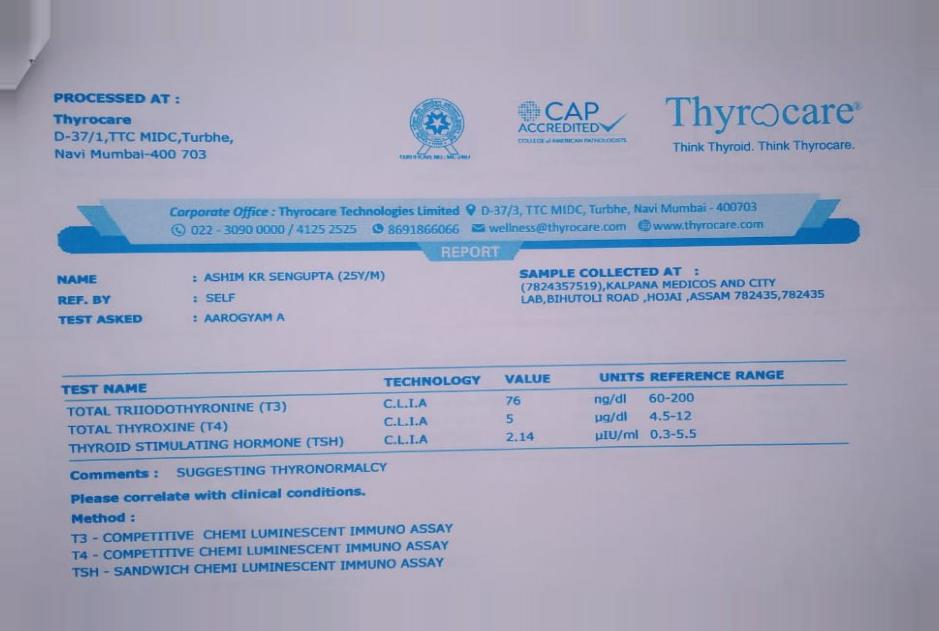Reference Range: (643, 386, 703, 447)
Test Name: (61, 396, 350, 458)
Units: (588, 387, 644, 448)
Value: (496, 388, 543, 450)
